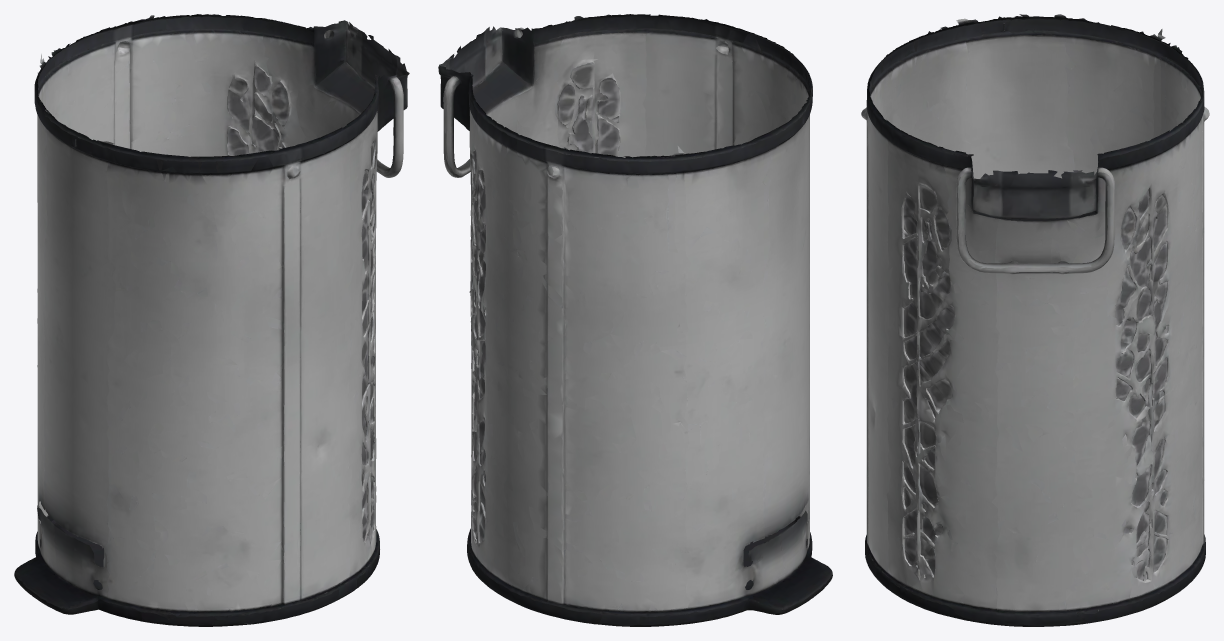
The model's file is body.glb.
3 renders of one model, left to right at view 1: azimuth 30°, elevation 25°; view 2: azimuth 150°, elevation 25°; view 3: azimuth 270°, elevation 25°, orthographic.
Visible parts, largest first — view 1: world; view 2: world; view 3: world.
Part boxes in pixels (<box>): world: <box>14,14,409,626</box>; world: <box>438,14,832,626</box>; world: <box>861,14,1209,626</box>.
Bounding box in the file's own units: 0.3165 × 0.4189 × 0.2765.
1 material, 1 textured.
